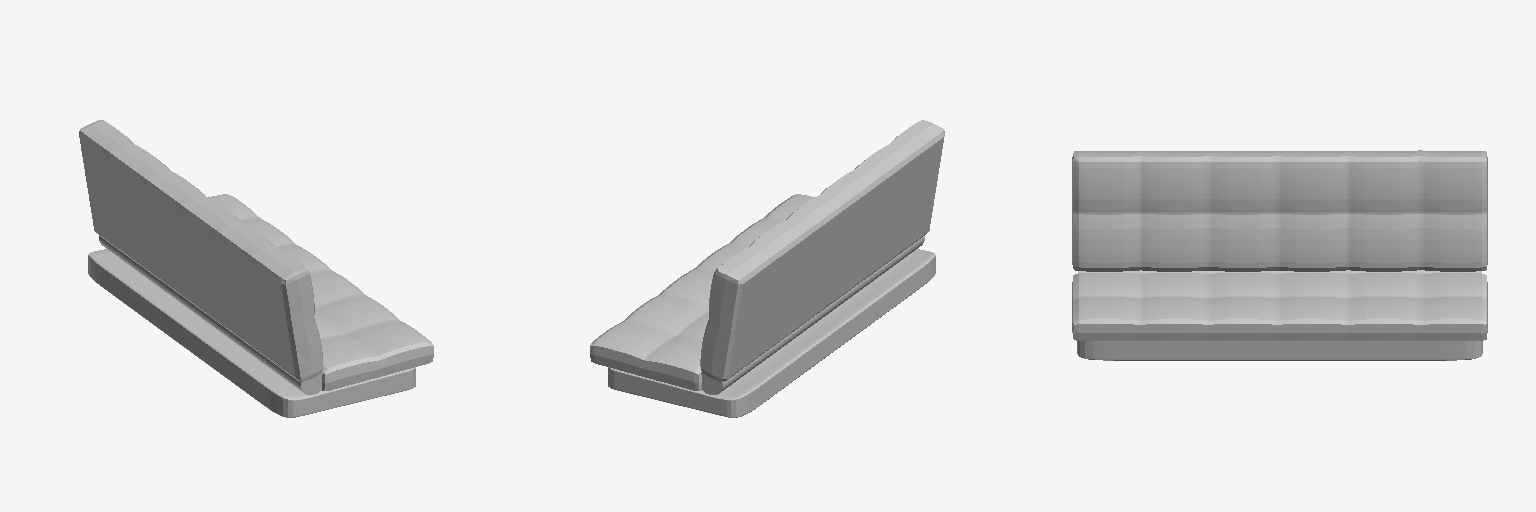
Rendered from neware.obj.
3 views of the same model, side by side, from view 1: azimuth 30°, elevation 25°; view 2: azimuth 150°, elevation 25°; view 3: azimuth 270°, elevation 25° (orthographic).
Visible parts, largest first — view 1: Cube_Cube.001, Cube.002_Cube.003, Cube.001_Cube.002, Cylinder; view 2: Cube_Cube.001, Cube.002_Cube.003, Cube.001_Cube.002, Cylinder; view 3: Cube_Cube.001, Cube.001_Cube.002, Cube.002_Cube.003, Cylinder.
Boxes of the visible parts, box(x1,y1,x2,y2) form: Cube_Cube.001: box(79, 120, 322, 381); Cube.002_Cube.003: box(88, 249, 415, 417); Cube.001_Cube.002: box(208, 194, 433, 390); Cylinder: box(99, 236, 322, 394); Cube_Cube.001: box(700, 120, 944, 381); Cube.002_Cube.003: box(608, 249, 935, 417); Cube.001_Cube.002: box(590, 194, 814, 390); Cylinder: box(701, 236, 924, 394); Cube_Cube.001: box(1072, 150, 1487, 271); Cube.001_Cube.002: box(1072, 273, 1487, 340); Cube.002_Cube.003: box(1077, 341, 1482, 360); Cylinder: box(1078, 270, 1481, 273).
Bounding box in the file's own units: 1.71 × 1.6 × 4.05.